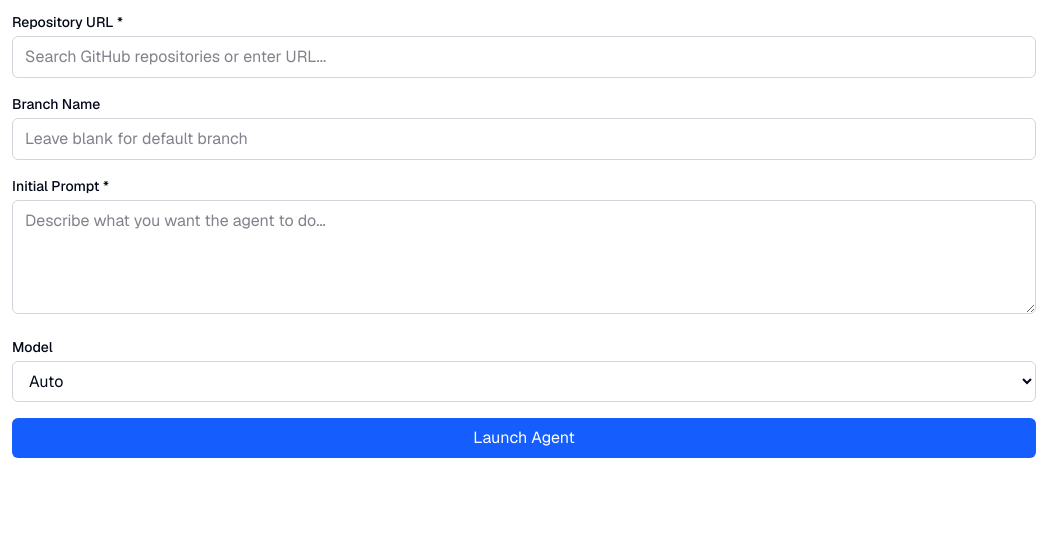
Test: LaunchAgentForm › should launch agent on valid form submission
This screenshot has width=1048, height=537.
In the field labelled "Repository URL *": coordinates (524, 57) [12, 36, 1036, 78], type "https://github.com/user/repo"
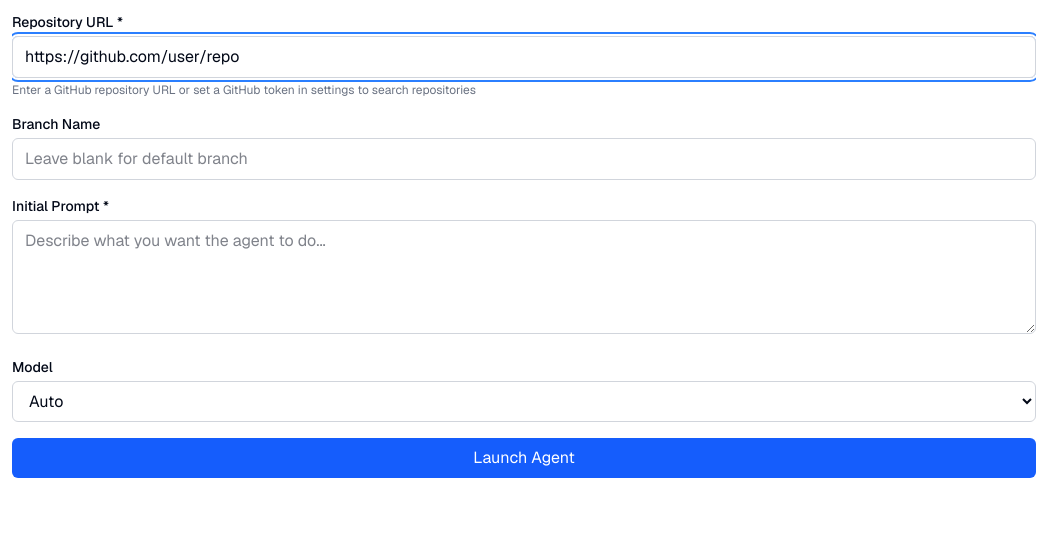
In the field labelled "Branch Name": coordinates (524, 159) [12, 138, 1036, 180], type "main"
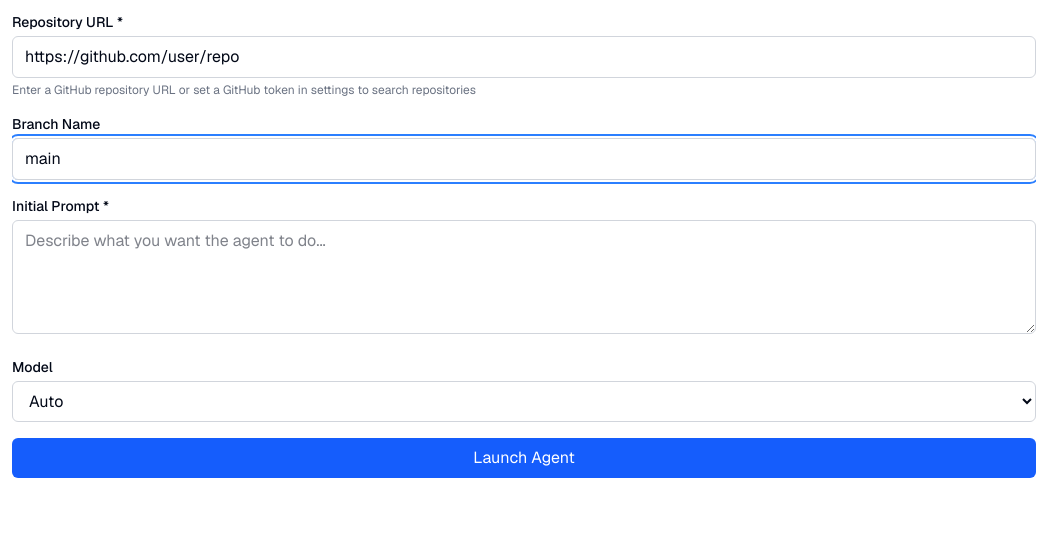
In the text box labelled "Initial Prompt *": coordinates (524, 277) [12, 220, 1036, 334], type "Test prompt"
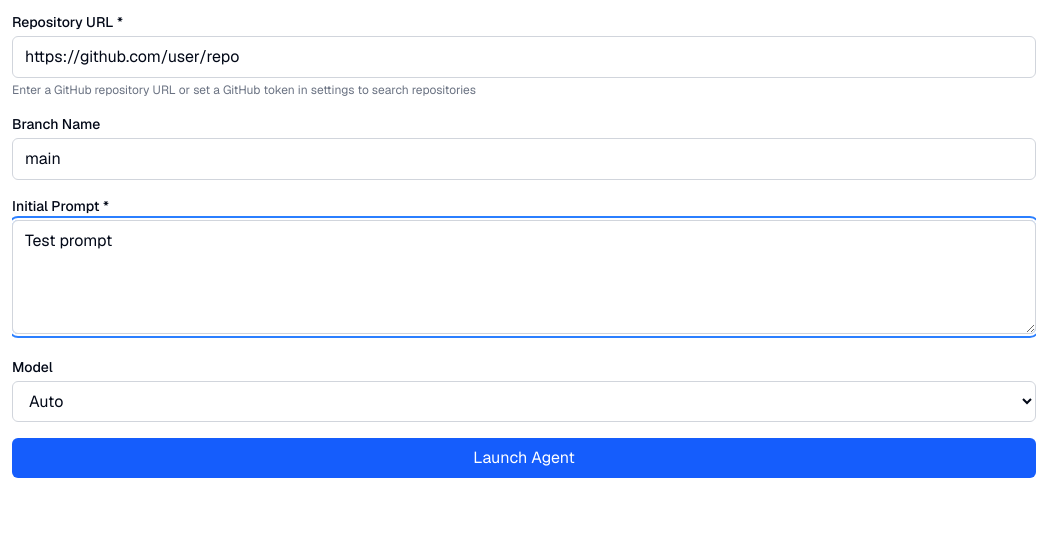
Click the button "Launch Agent": coordinates (524, 458) [12, 438, 1036, 478]
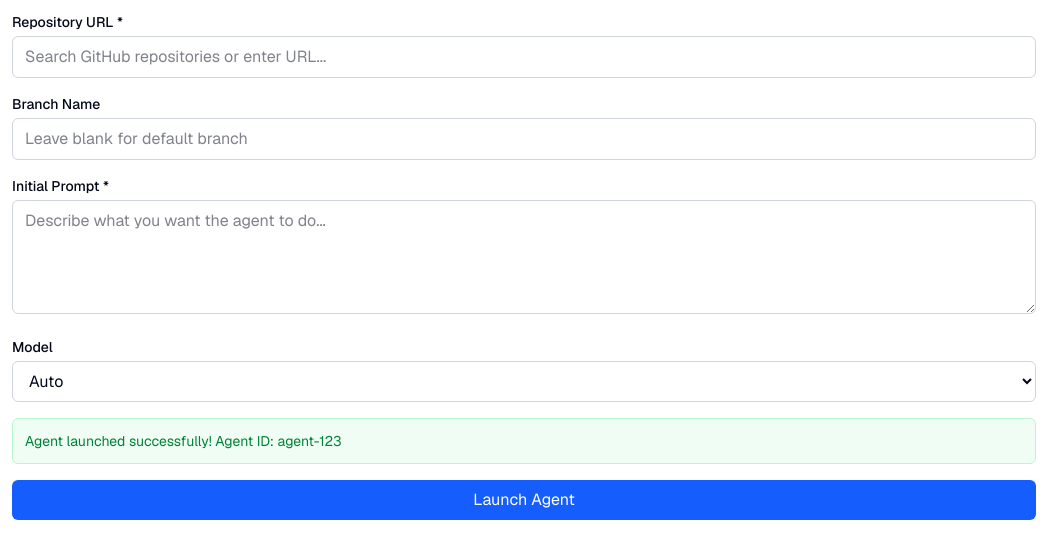
Expected: the text "Agent launched successfully! Agent ID: agent-123" is shown, [12, 418, 1036, 464]
